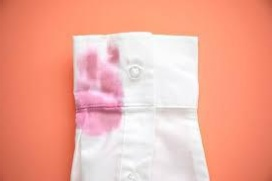wine: (77, 43, 126, 137)
